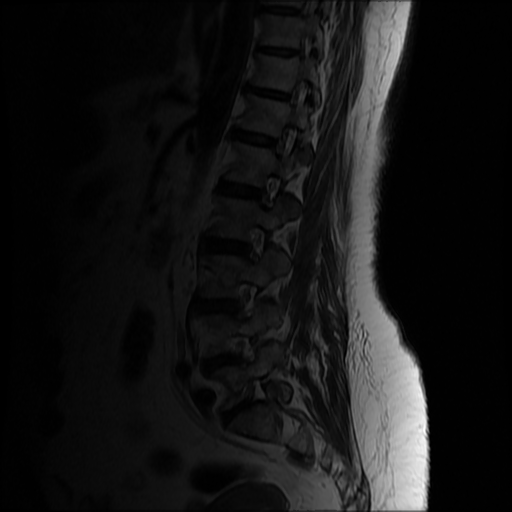LFS0: (228, 215, 269, 270), (224, 274, 264, 325), (221, 328, 261, 379), (246, 164, 284, 214)
